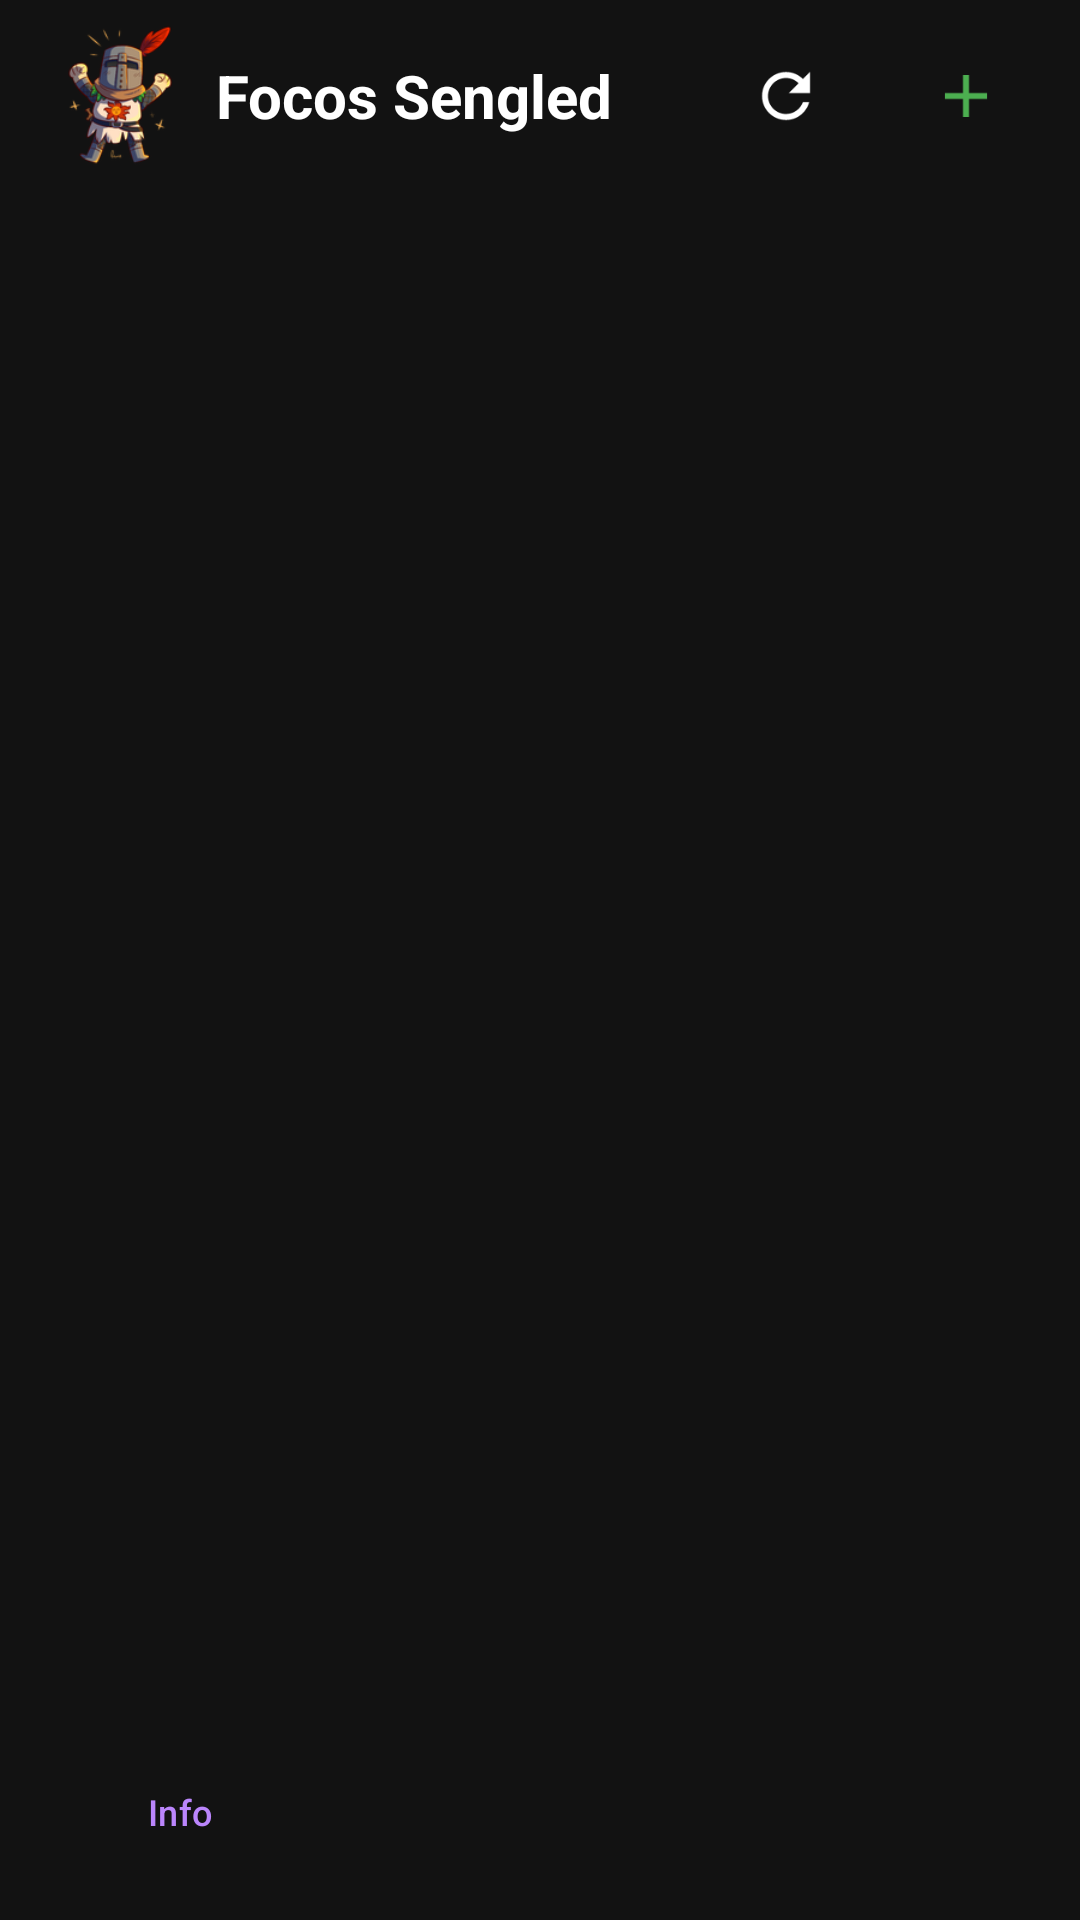

Where to tap for icons on this 1080px×1920px app screen, as [x,y]:
Actualizar estado de los focos: [786,96]
Agregar dispositivo: [966,96]
